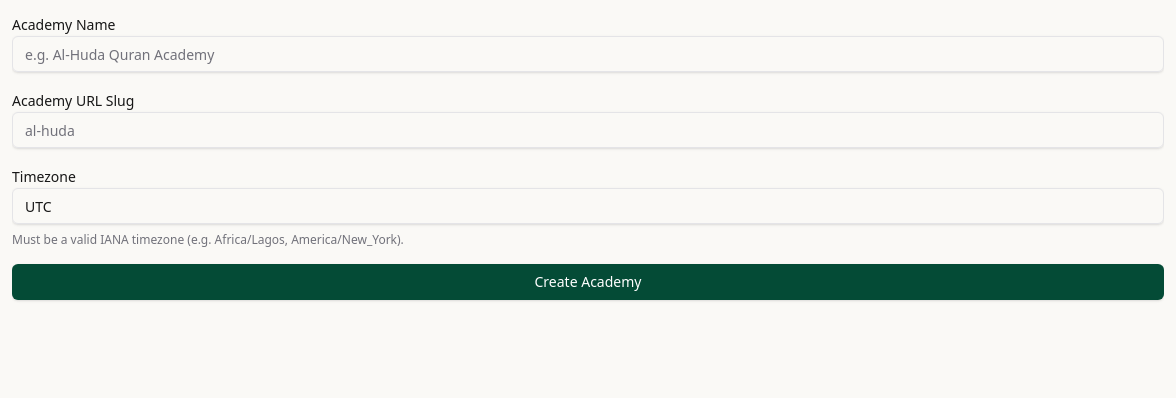
Scenario: CreateAcademyForm › handles backend validation errors
In the field labelled "Academy Name": (588, 54) [12,36,1164,72], type "My Academy"
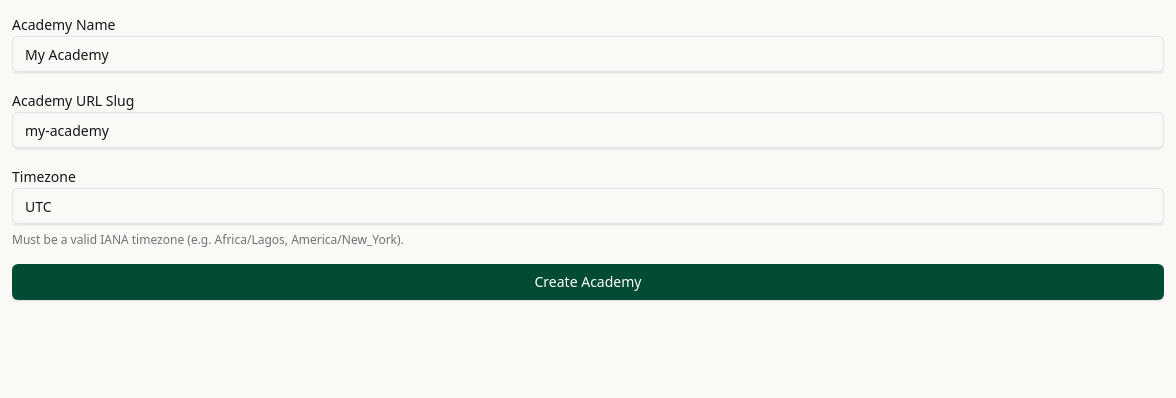
Submit the form named "Create Academy"
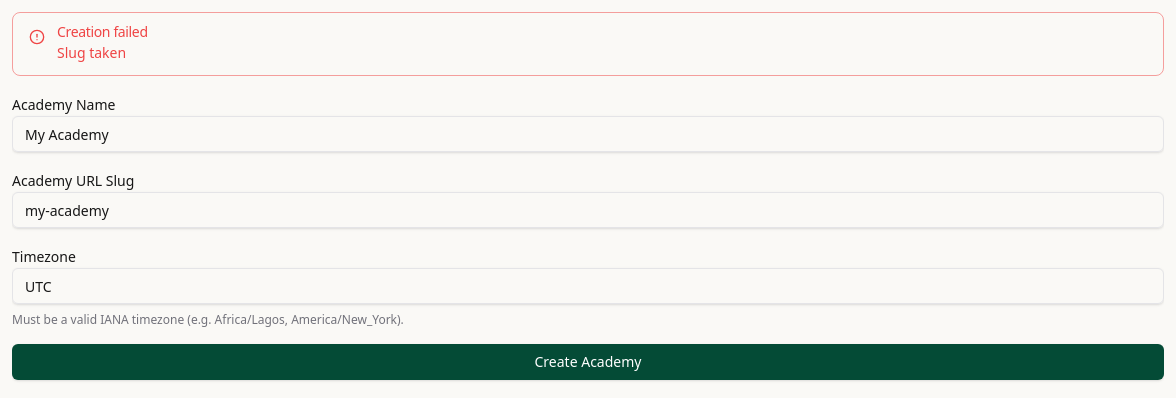
Expected: the text "Slug taken" is shown, [57,43,126,62]
